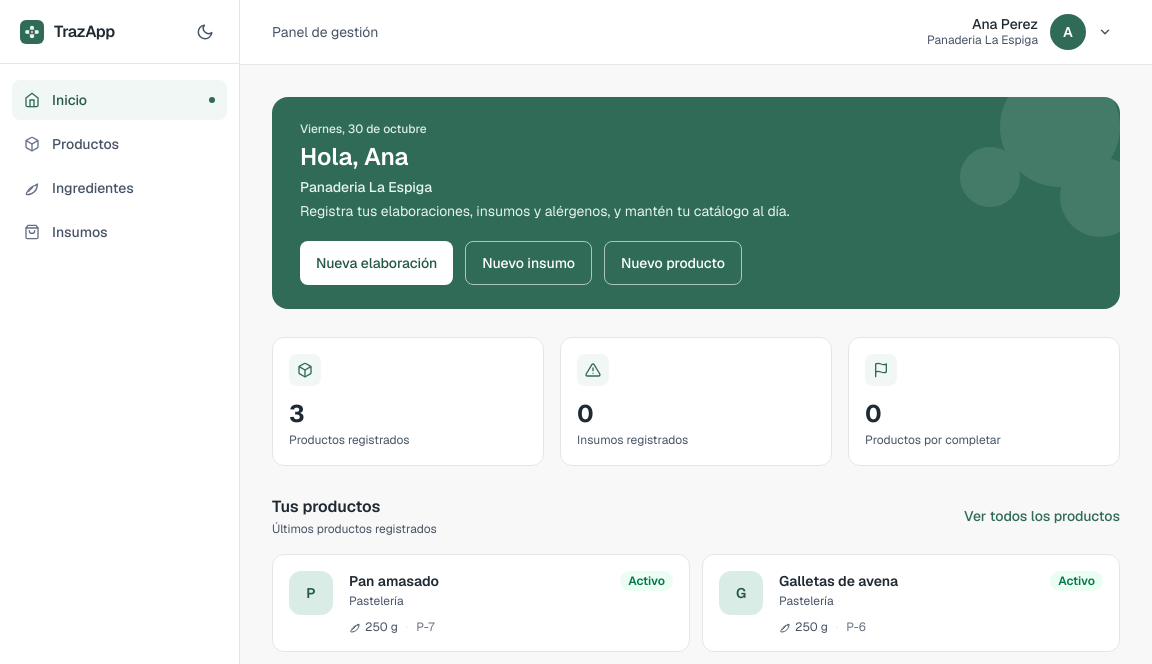
Test: Dashboard: acción «Nueva elaboración» (HT06-07) › sin elegir producto muestra el error y no crea nada
Click the button "Nueva elaboración".
click(377, 263)  # box [300, 241, 453, 285]
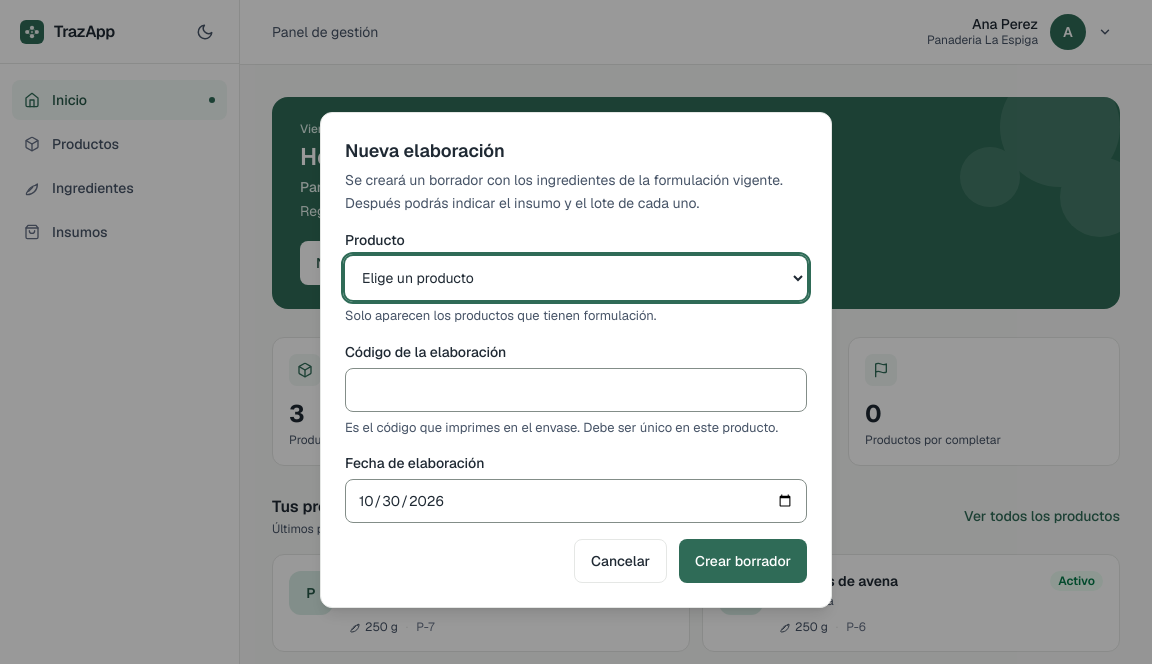
Type "E-009" into the field labelled "Código de la elaboración".
click(576, 390); type("E-009")  # box [345, 368, 807, 412]
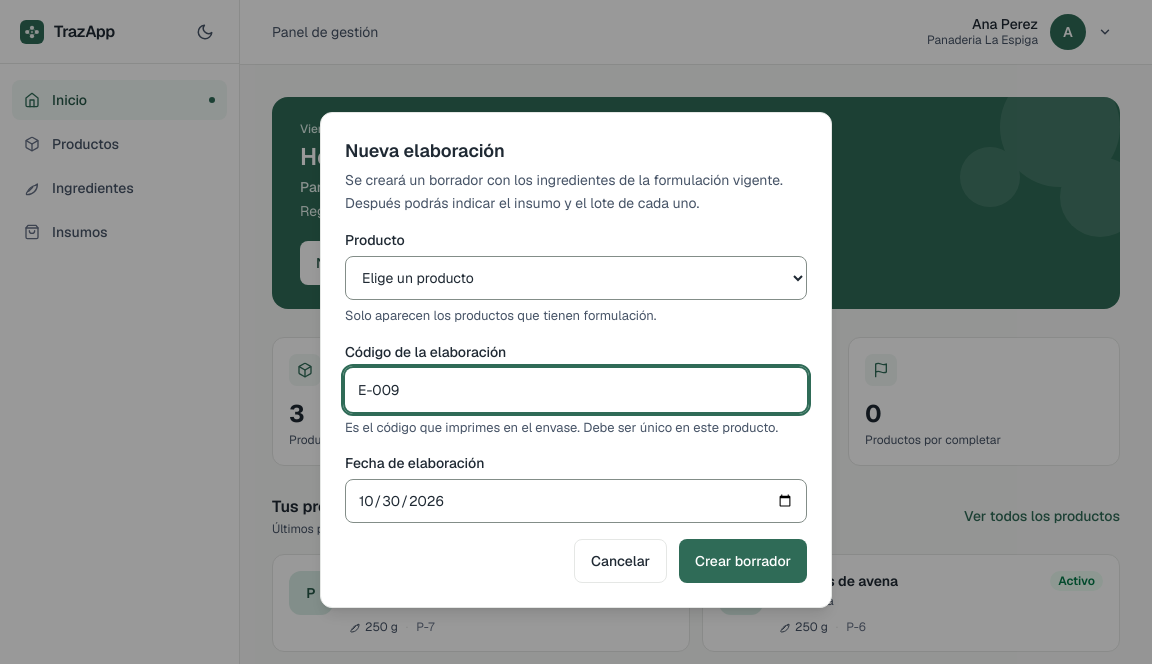
Click the button "Crear borrador".
click(743, 561)  # box [679, 539, 807, 583]
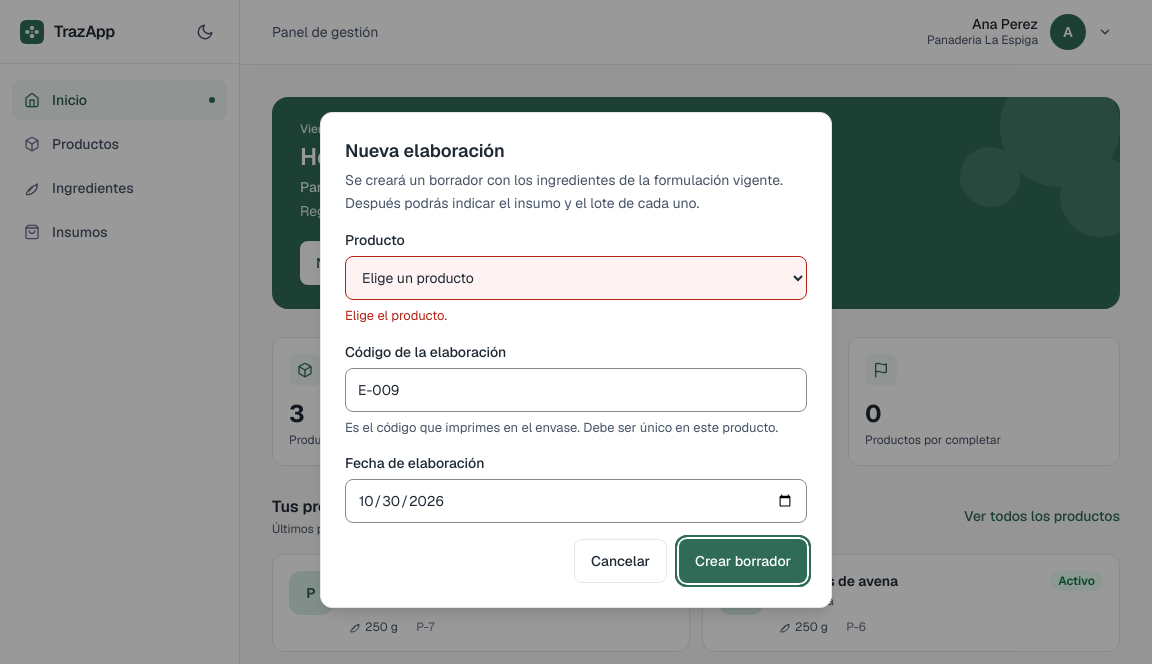
Expected: the text "Elige el producto." is shown, [345, 307, 447, 324]
